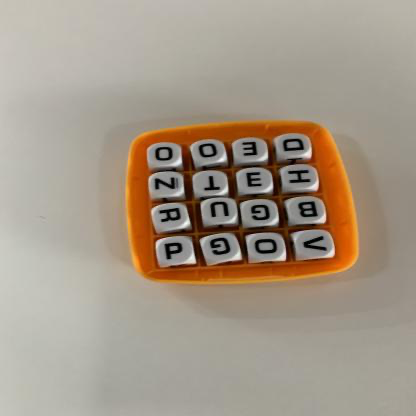b: (289, 197, 327, 224)
d: (278, 134, 313, 158)
e: (238, 169, 274, 194), (233, 139, 269, 163)
g: (203, 234, 240, 263), (242, 200, 280, 227)
h: (282, 165, 319, 191)
o: (249, 234, 286, 262), (192, 140, 227, 165), (149, 143, 184, 167)
p: (158, 237, 194, 265)
r: (153, 204, 189, 229)
t: (193, 171, 230, 197)
u: (203, 198, 239, 225)
v: (296, 231, 334, 259)
z: (149, 172, 186, 197)
